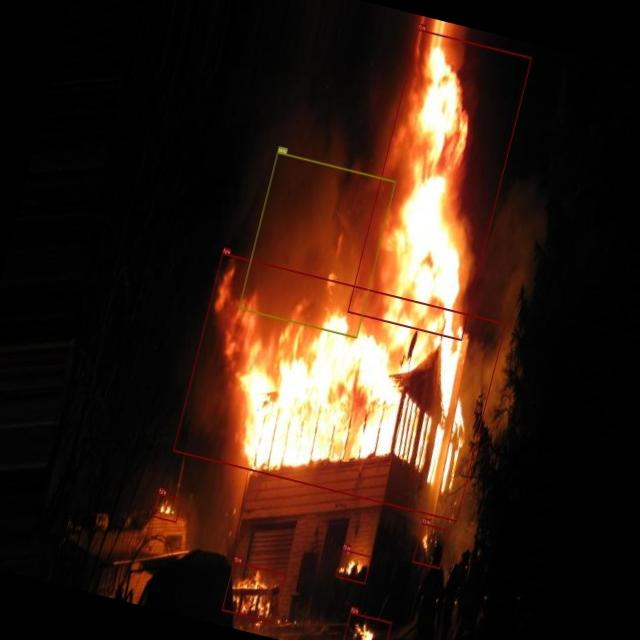fire: (172, 252, 506, 521), (347, 28, 531, 340), (220, 562, 284, 624), (412, 522, 449, 568), (340, 612, 391, 640), (336, 548, 370, 584), (152, 493, 182, 522)
smoke: (238, 152, 396, 338)
